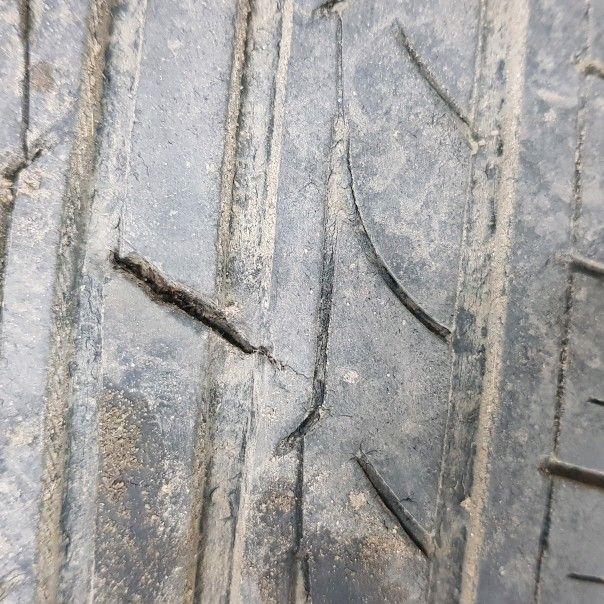tr: (102, 246, 308, 375)
